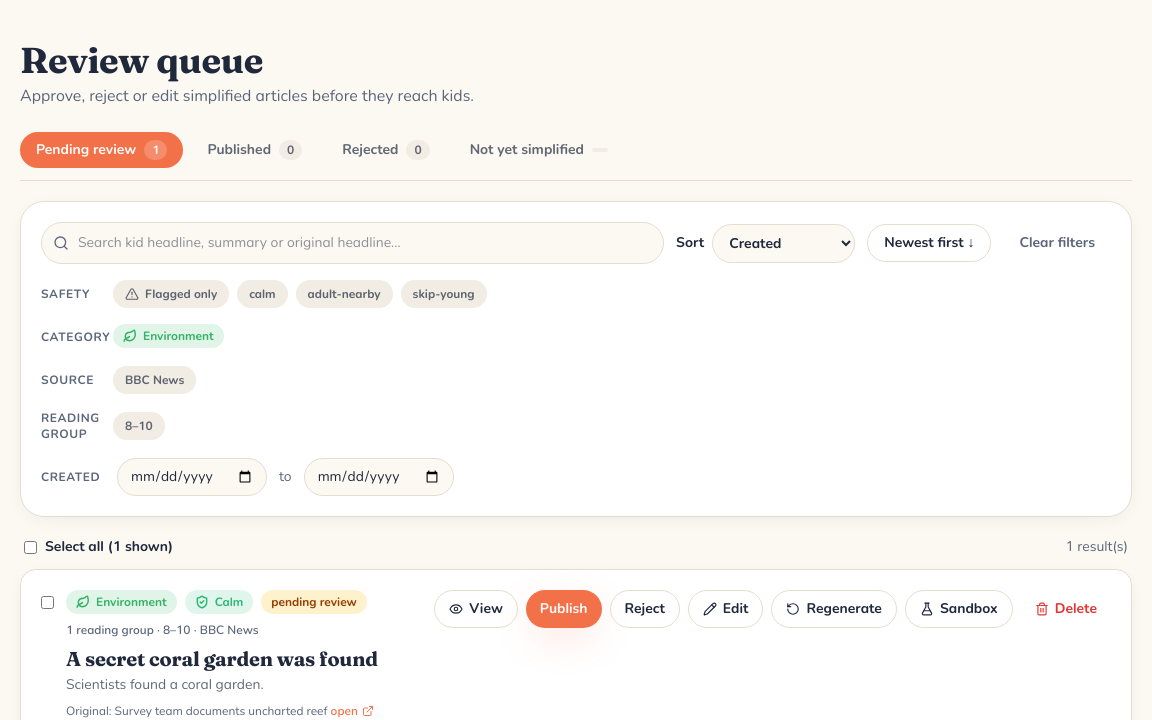
Test case: reading a story before judging it › shows the whole story, the way a reader sees it
The image size is (1152, 720).
Check: the button "A secret coral garden was found" is shown, box left=66, top=646, right=378, bottom=671
What coordinates should you click on to do the following:
click the button "View"
I would click on:
 (476, 609)
Its box is left=434, top=590, right=518, bottom=628.
(page scrolled)
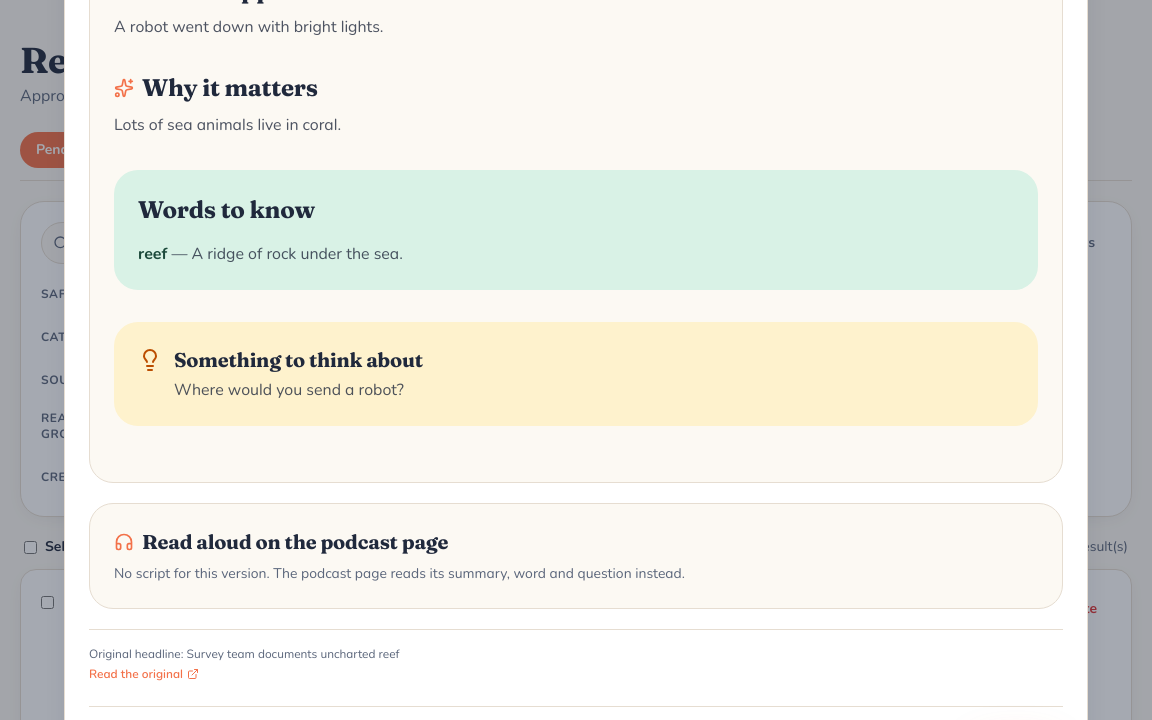
Check: the text "A robot went down with bright lights." is shown, box left=114, top=16, right=384, bottom=38
Check: the heading "Why it matters" is shown, box left=114, top=72, right=318, bottom=104
Check: the heading "Words to know" is shown, box left=138, top=195, right=315, bottom=224
